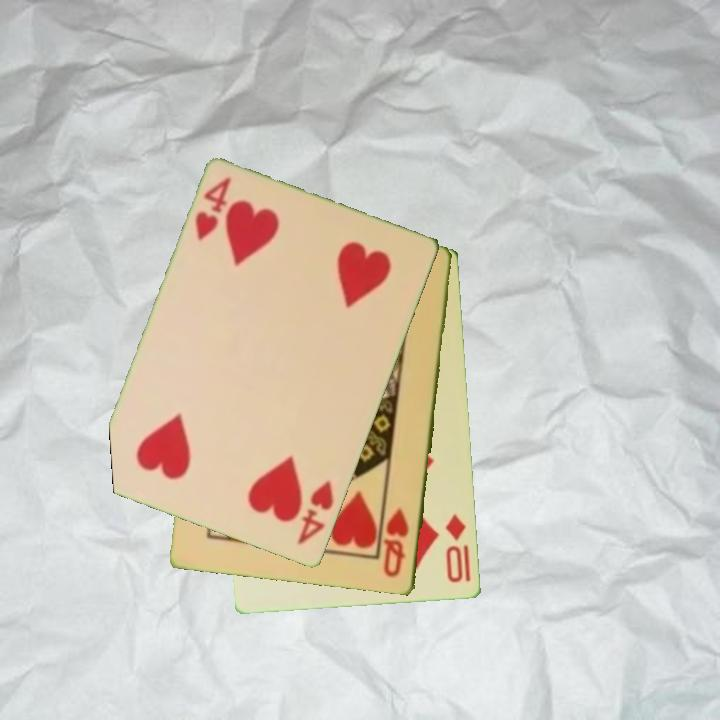10d: (442, 510, 474, 586)
4h: (191, 173, 235, 244), (294, 478, 337, 549)
Qh: (380, 505, 413, 581)
